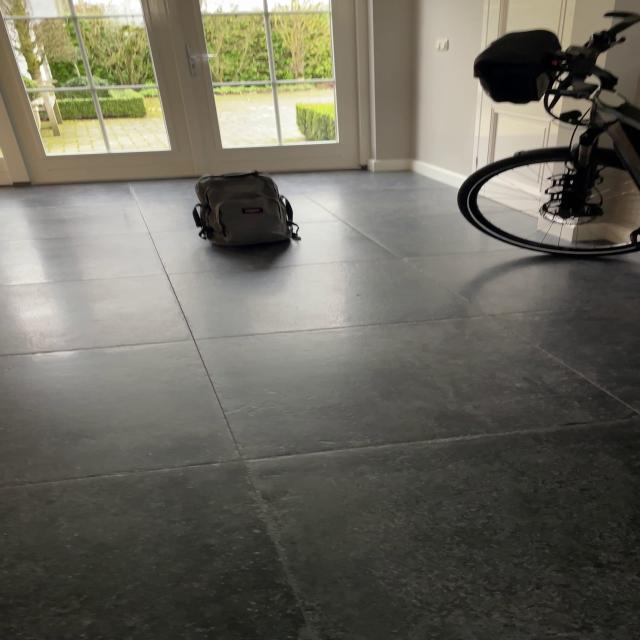backpack: (185, 167, 298, 250)
